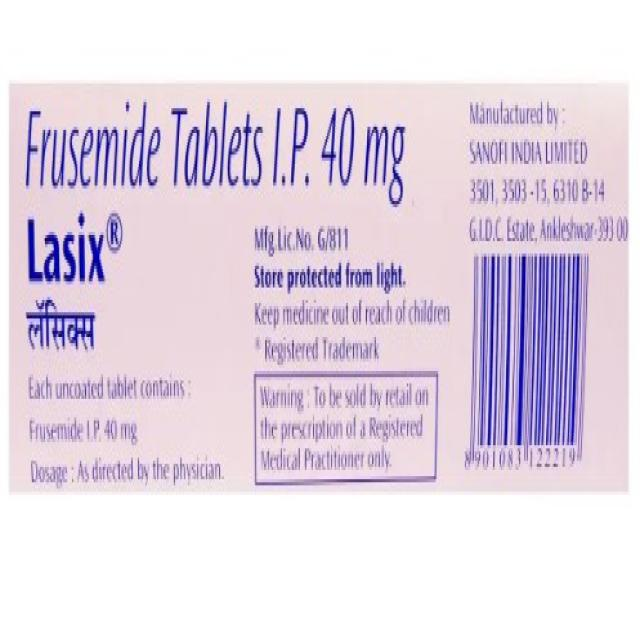Medicine-name: (24, 97, 420, 212)
